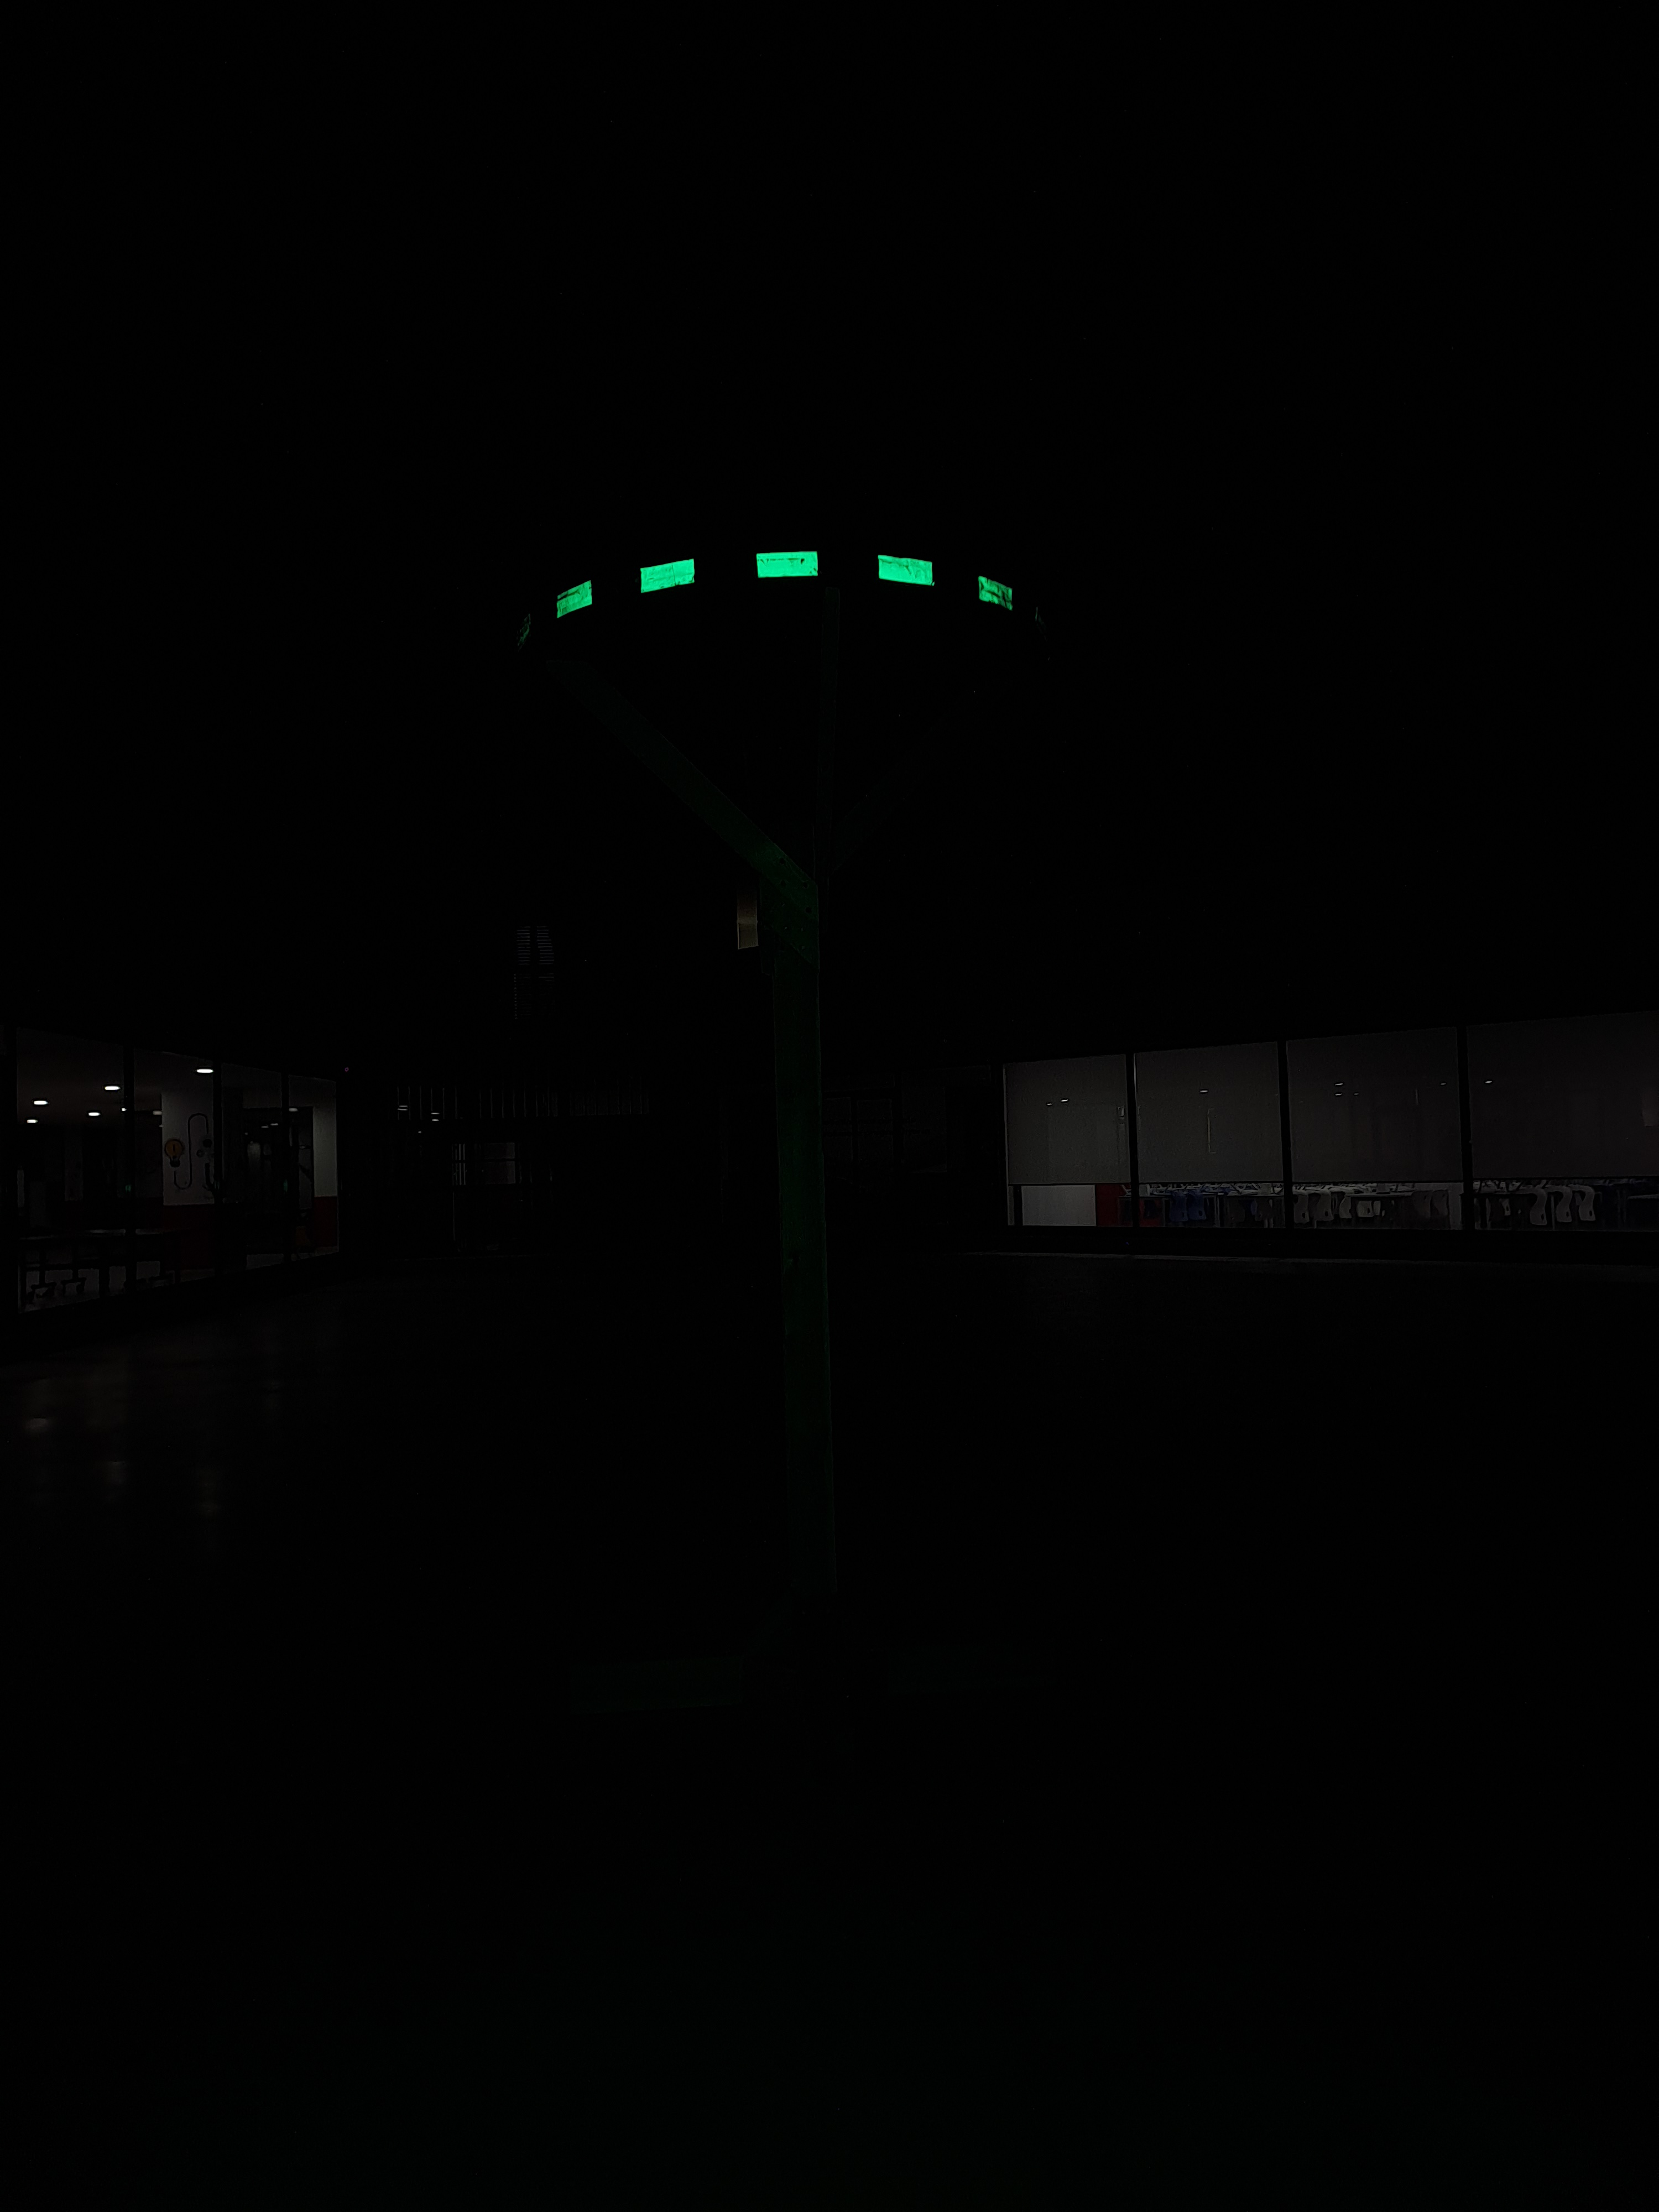hoop: (551, 538, 1018, 627)
